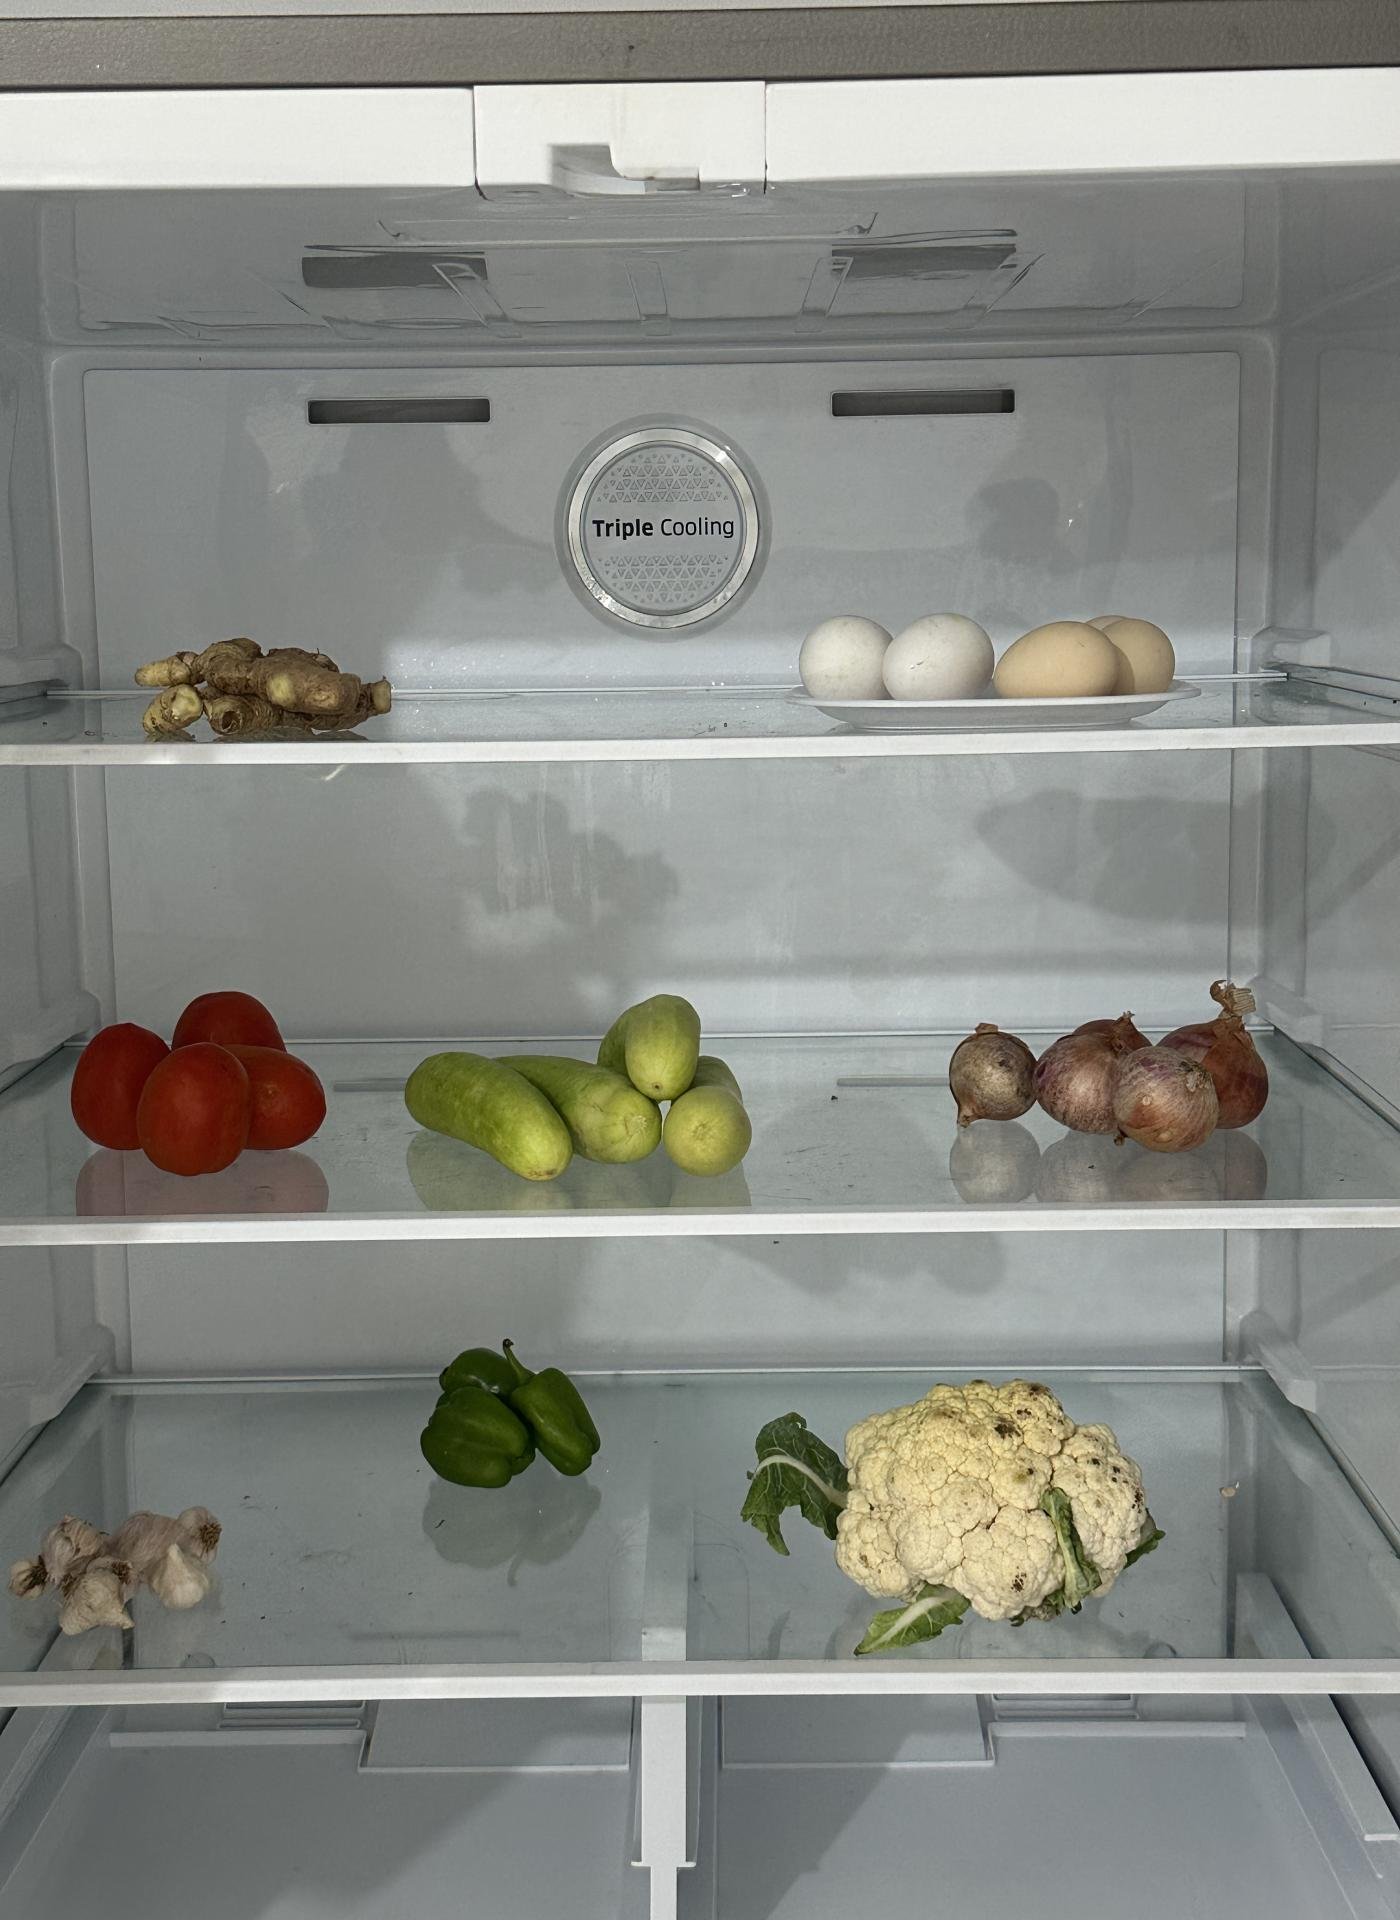capsicum: (420, 1339, 607, 1491)
cauliflower: (819, 1373, 1158, 1620)
cucumber: (407, 993, 753, 1185)
egg: (796, 610, 1187, 711)
garlic: (10, 1497, 228, 1643)
ginger: (130, 629, 398, 742)
onion: (944, 1005, 1279, 1146)
tomato: (70, 982, 331, 1169)
